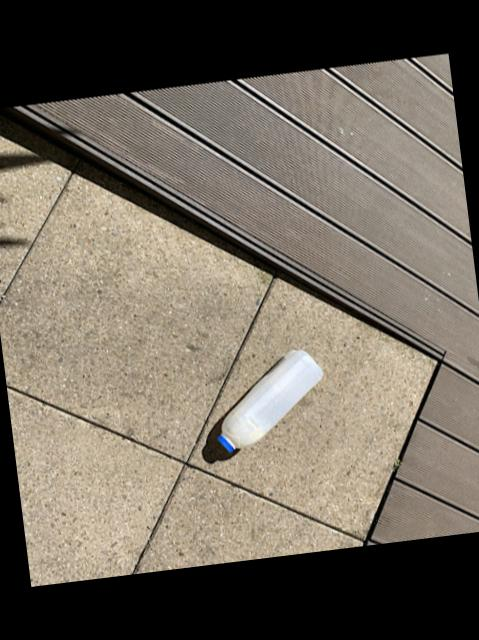plastic: (219, 348, 323, 450)
